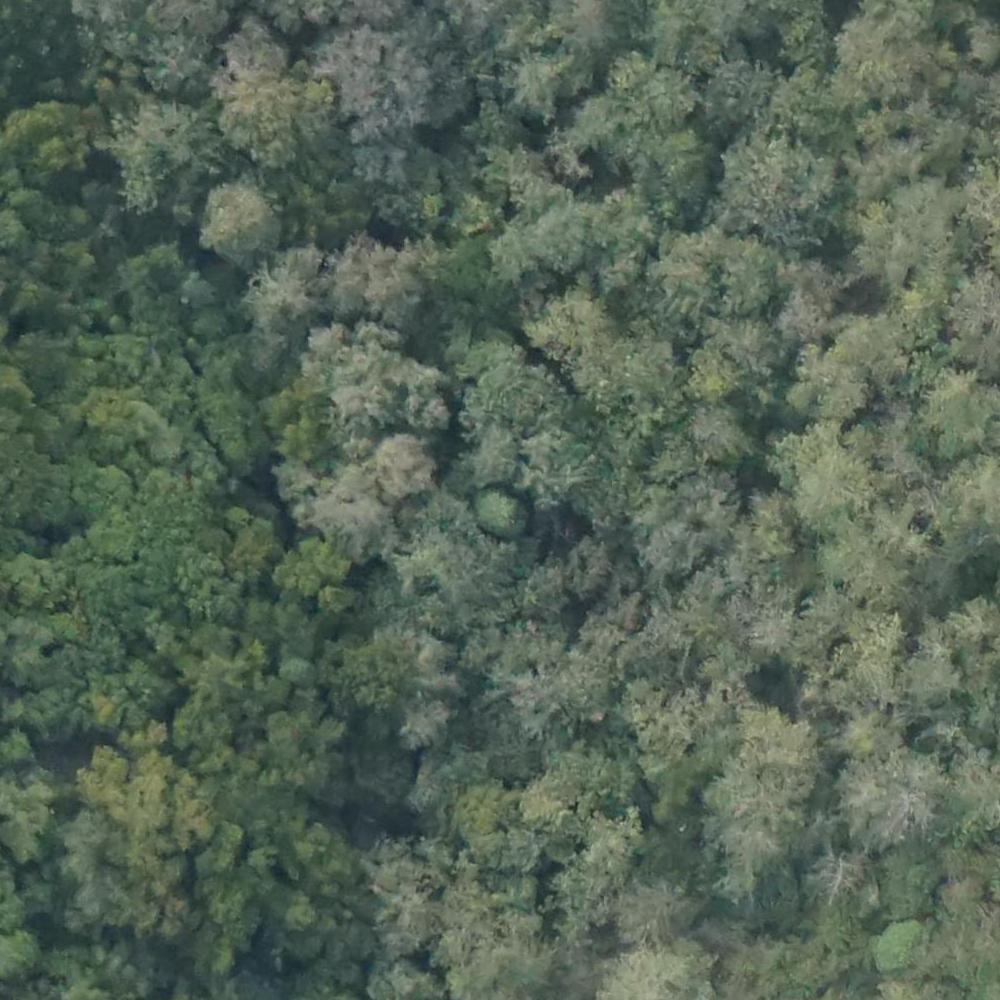tree: (112, 104, 234, 218), (218, 68, 345, 168), (231, 252, 347, 359), (319, 29, 434, 130), (823, 499, 938, 599), (772, 430, 880, 528), (648, 479, 743, 579), (833, 618, 914, 710), (589, 169, 654, 279), (190, 177, 273, 260), (320, 484, 398, 569), (797, 338, 874, 420), (535, 303, 625, 373), (620, 870, 699, 949), (465, 786, 539, 865), (527, 185, 593, 271), (698, 226, 773, 301), (810, 855, 880, 925), (276, 531, 345, 601), (504, 52, 578, 116), (268, 385, 330, 461), (456, 332, 529, 387), (373, 430, 436, 493), (395, 689, 455, 753), (367, 249, 428, 310), (509, 771, 576, 825), (872, 913, 929, 975), (690, 411, 759, 457), (642, 69, 697, 125), (849, 712, 900, 767), (685, 349, 741, 399), (89, 512, 142, 561), (475, 489, 526, 536), (565, 536, 609, 589), (231, 532, 278, 579), (279, 656, 310, 686)
